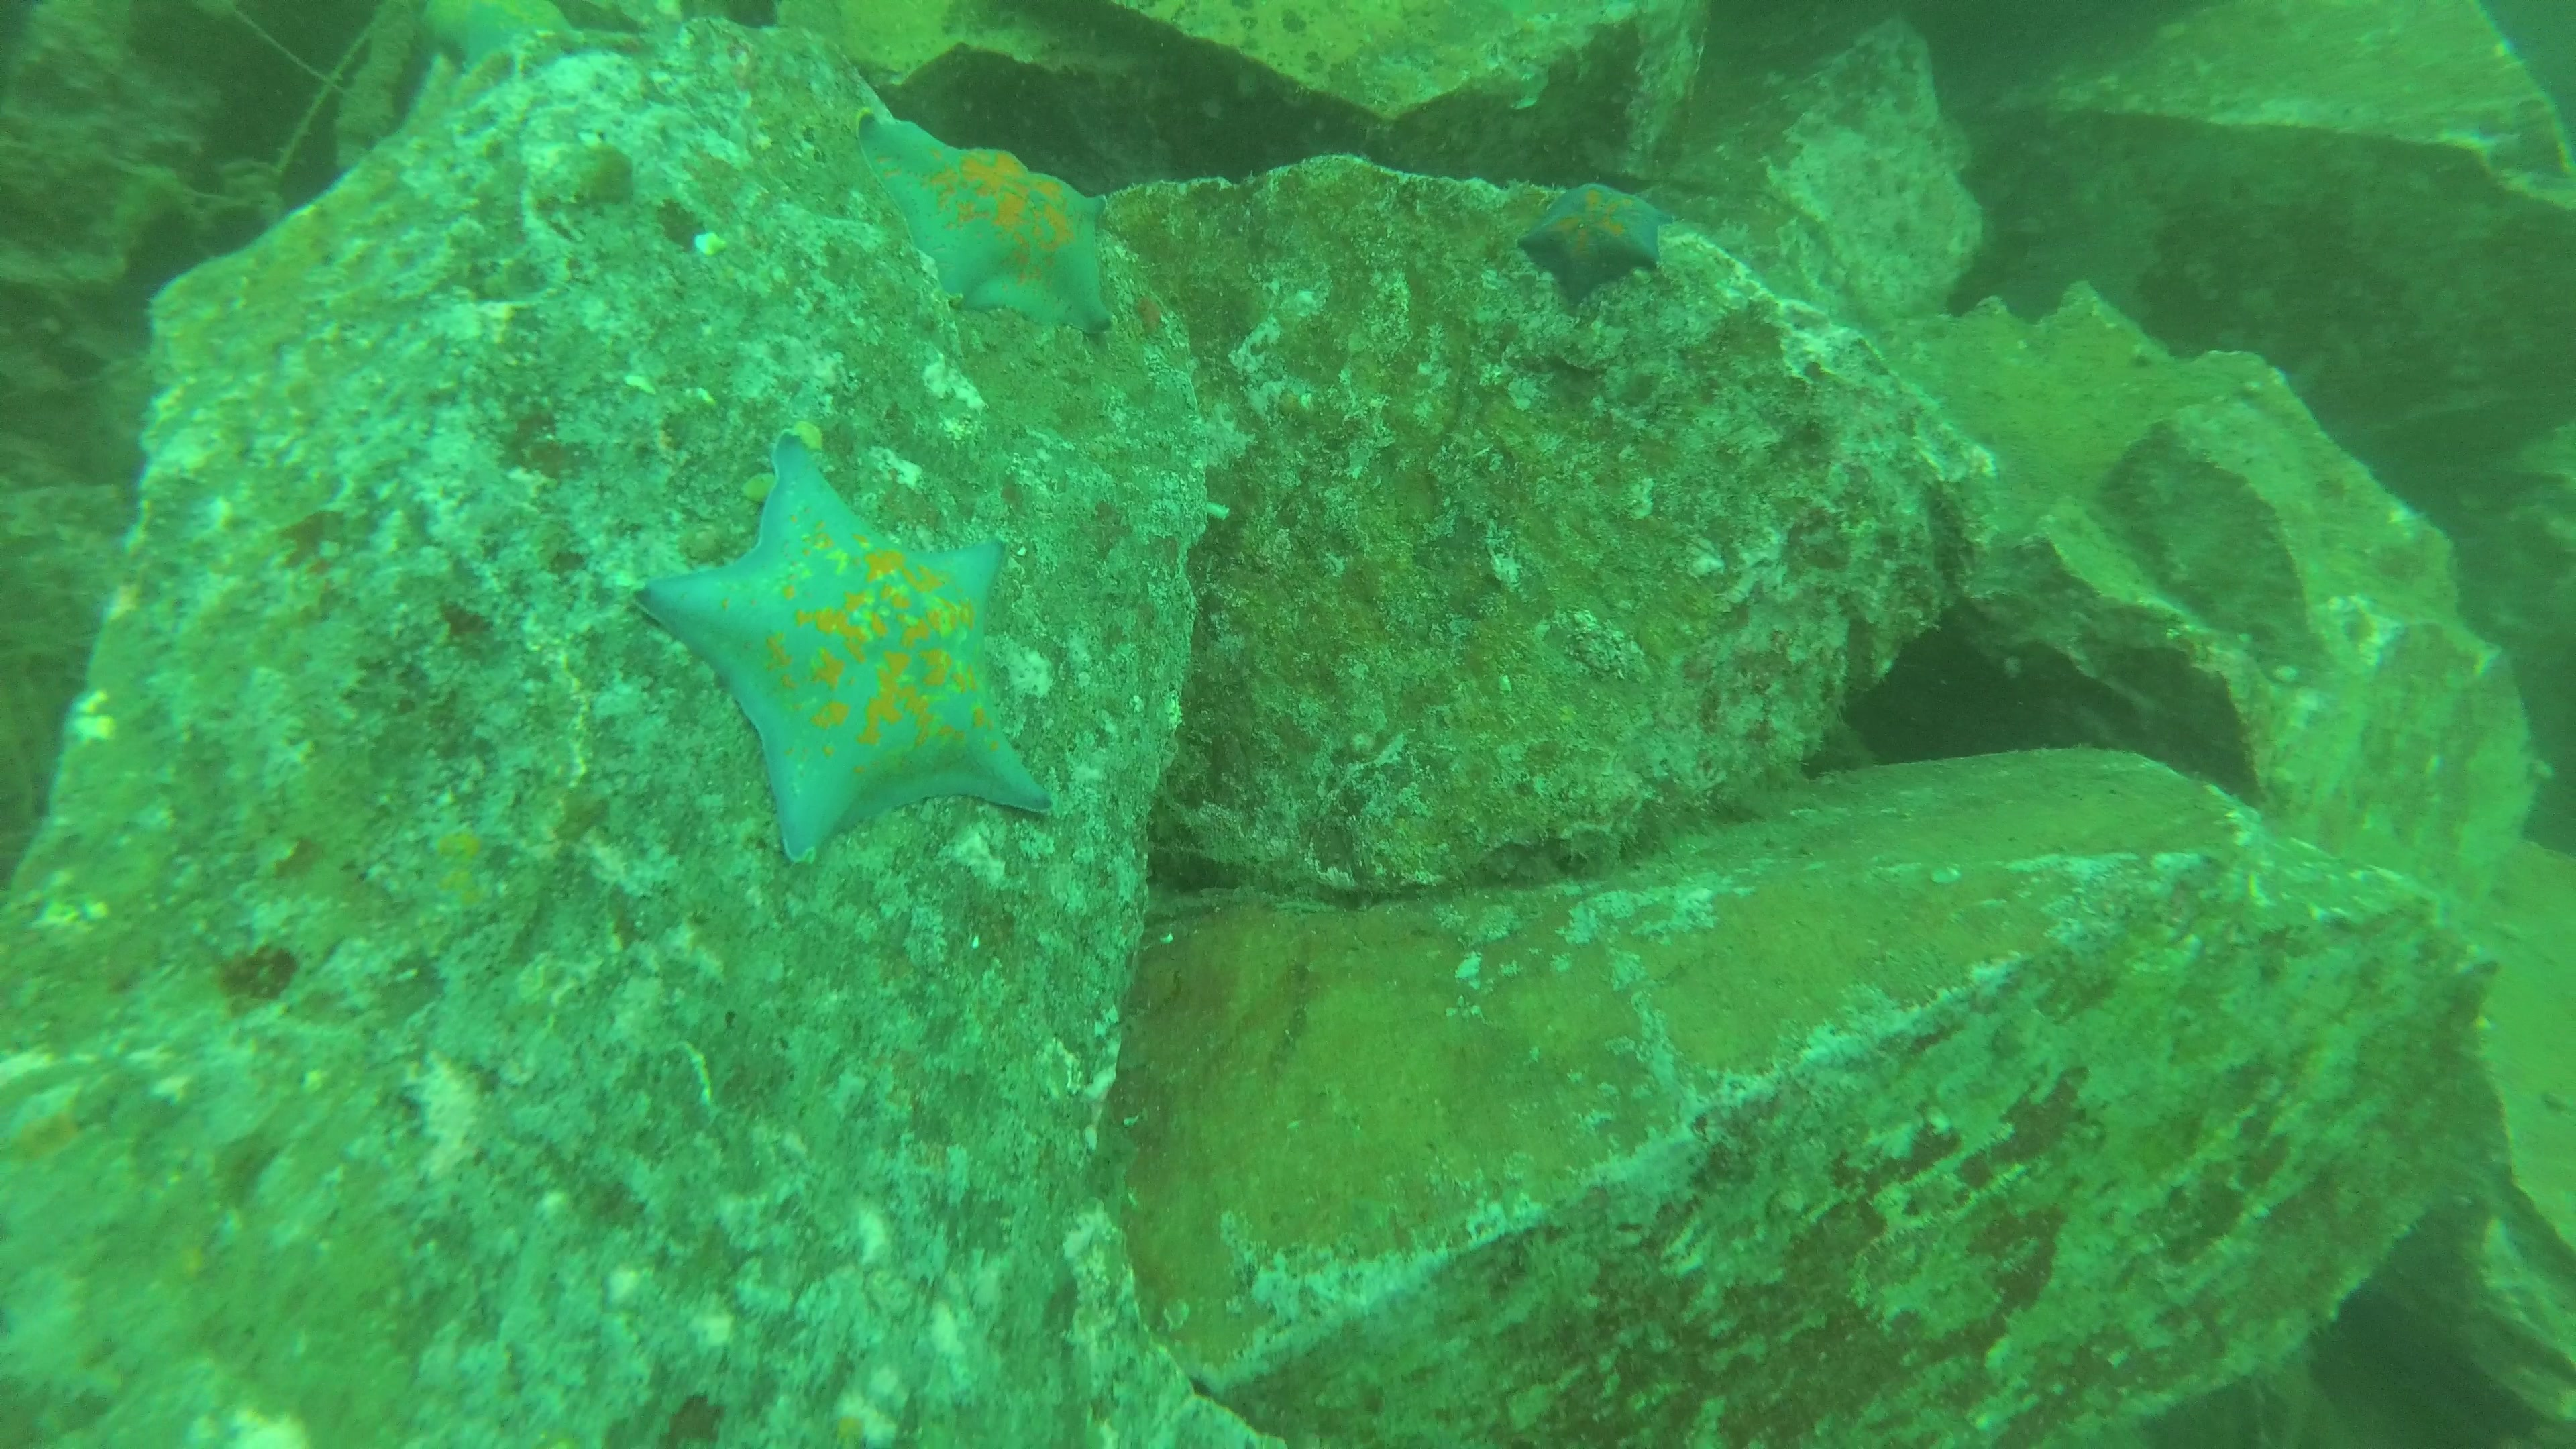starfish: (633, 421, 1058, 870), (853, 104, 1116, 336), (1520, 177, 1667, 308), (421, 0, 584, 67)
